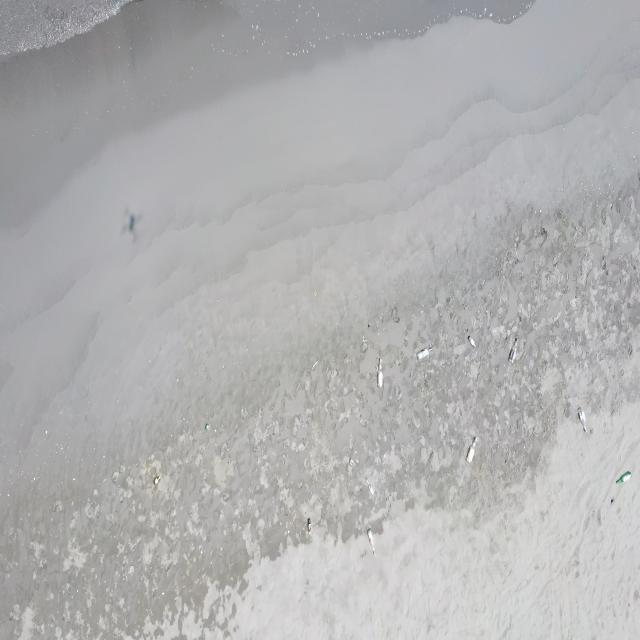glass: (465, 436, 478, 464), (366, 528, 376, 556), (578, 408, 588, 434), (377, 358, 385, 388), (509, 338, 518, 364), (416, 347, 434, 360), (615, 472, 632, 485), (365, 477, 375, 497), (468, 336, 476, 348), (154, 476, 162, 486), (307, 518, 312, 534), (349, 458, 356, 468), (205, 423, 209, 432)
